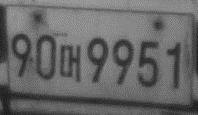0: (35, 33, 57, 80)
1: (165, 40, 181, 91)
5: (136, 39, 159, 88)
9: (112, 37, 134, 85), (87, 37, 109, 84), (10, 33, 32, 78)
머: (58, 43, 83, 83)
